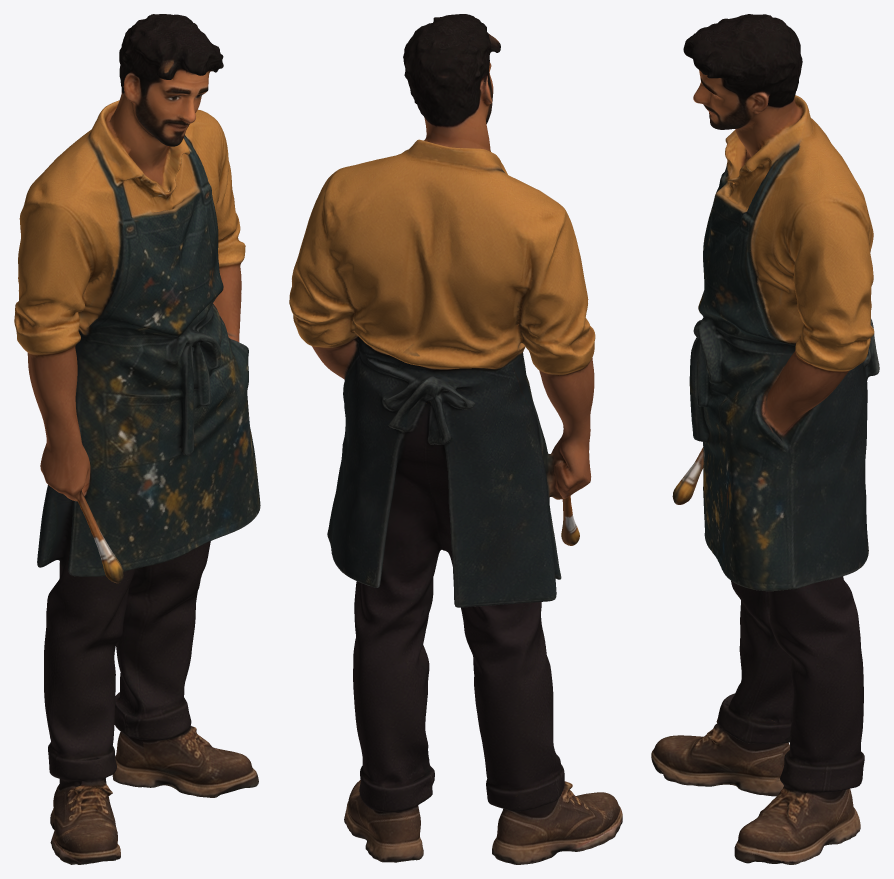
The model's file is painter_base.glb.
The picture shows the model from 3 angles, left to right: view 1: azimuth 30°, elevation 25°; view 2: azimuth 150°, elevation 25°; view 3: azimuth 270°, elevation 25°; orthographic projection. The views are drawn at different scales.
Size of the model in its own units: 0.6401 by 1.9 by 0.486.
Materials: 1 (1 with a texture image).
